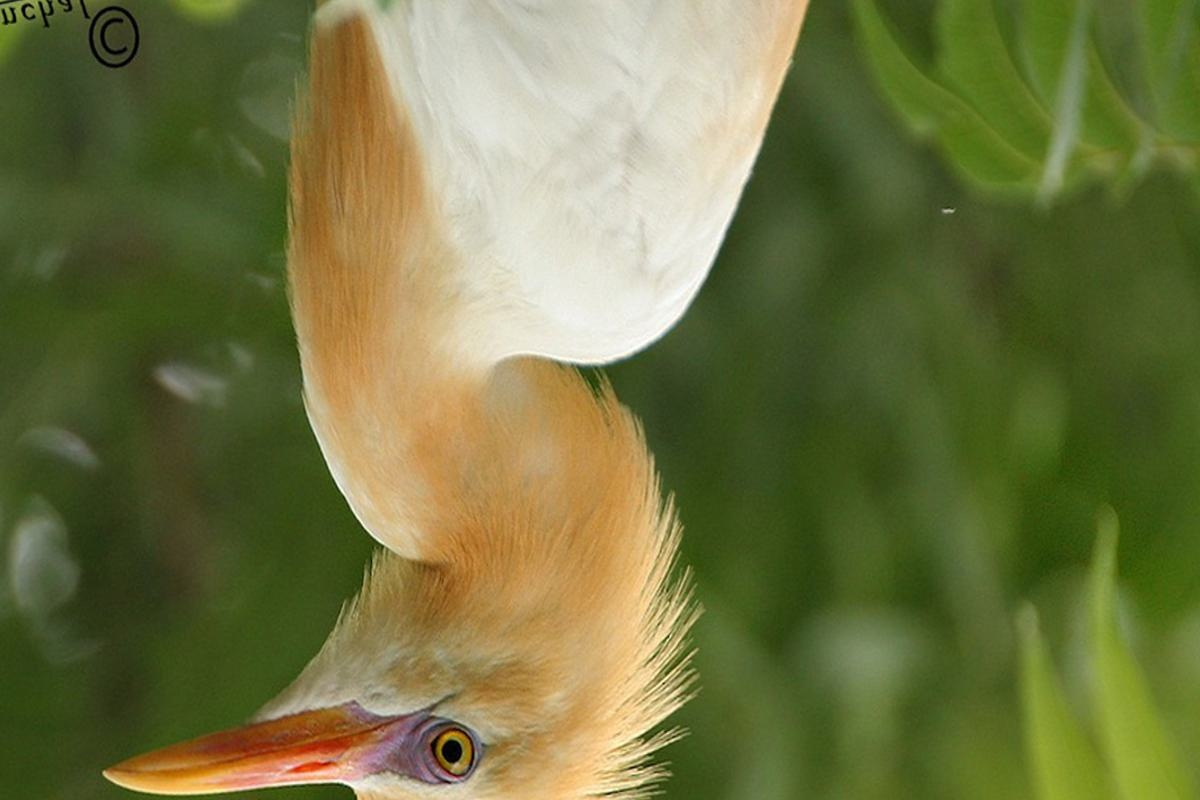egret: (90, 1, 802, 796)
